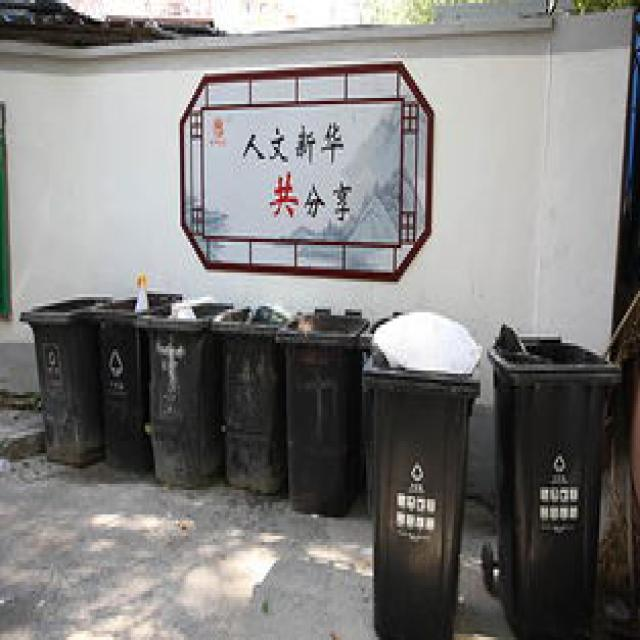garbage_bin: (484, 321, 622, 637), (274, 304, 368, 512), (209, 303, 288, 487), (18, 294, 102, 465)
overflow: (360, 306, 478, 637), (92, 272, 180, 468), (137, 297, 217, 484)
